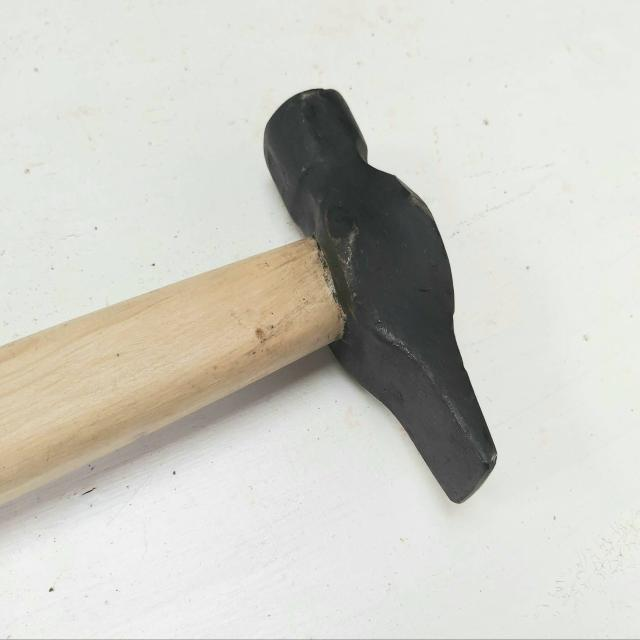hammer: (0, 82, 501, 516)
